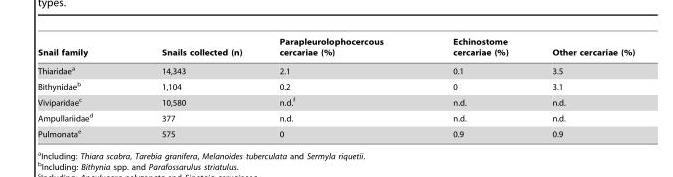table: (37, 37, 634, 138)
table column: (260, 37, 417, 138), (126, 37, 260, 138), (417, 37, 529, 138), (529, 37, 634, 138), (37, 37, 126, 138)
table column header: (37, 37, 634, 60)
table row: (37, 37, 634, 60), (37, 60, 634, 78), (37, 93, 634, 109), (37, 109, 634, 125), (37, 78, 634, 93), (37, 125, 634, 138)
